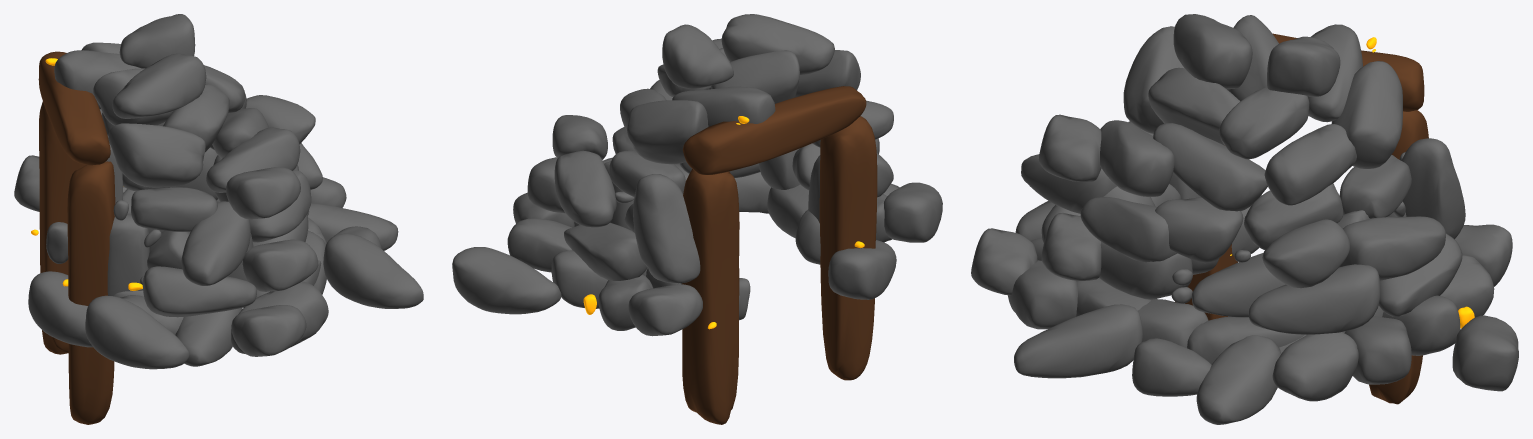
File: Mina.fbx
3 views of the same model, side by side, from view 1: azimuth 30°, elevation 25°; view 2: azimuth 150°, elevation 25°; view 3: azimuth 270°, elevation 25° (orthographic). The views are drawn at different scales.
Visible parts, largest first — view 1: maderas.002; view 2: maderas.002; view 3: maderas.002.
Part boxes in pixels (x1,y1,x2,y2): maderas.002: [14, 14, 423, 424]; maderas.002: [452, 14, 942, 424]; maderas.002: [971, 14, 1518, 424].
Size of the model in its own units: 649 by 603 by 750.
